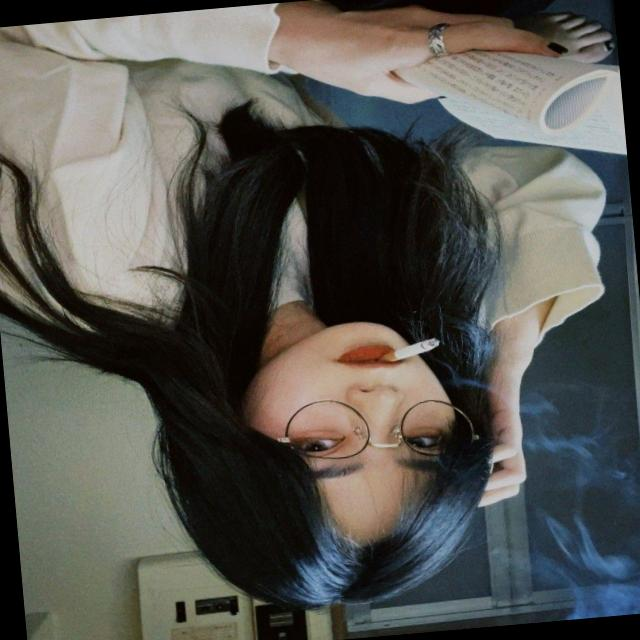cigarette: (362, 318, 462, 380)
